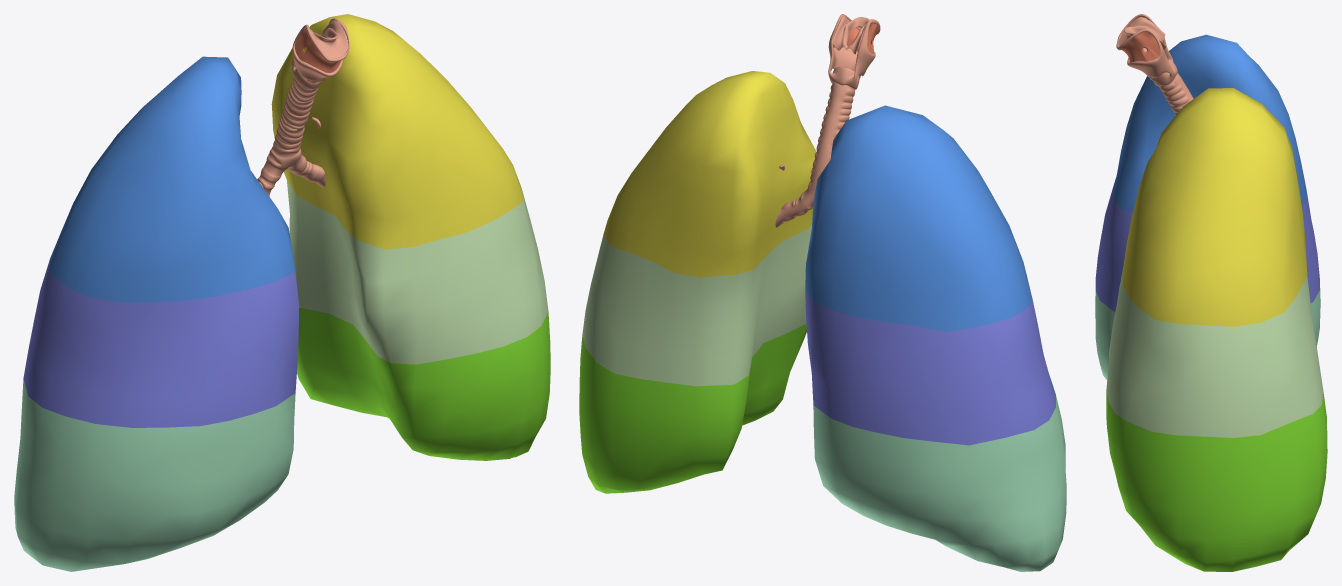
3 views of the same model, side by side, from view 1: azimuth 30°, elevation 25°; view 2: azimuth 150°, elevation 25°; view 3: azimuth 270°, elevation 25° (orthographic). The views are drawn at different scales.
Visible parts, largest first — view 1: uploads_files_2015339_Human_Lung_Low_Poly, Lungs_5; view 2: uploads_files_2015339_Human_Lung_Low_Poly, Lungs_5; view 3: uploads_files_2015339_Human_Lung_Low_Poly, Lungs_5.
Boxes of the visible parts, <box> form: uploads_files_2015339_Human_Lung_Low_Poly: <box>14,14,550,571</box>; Lungs_5: <box>257,18,349,196</box>; uploads_files_2015339_Human_Lung_Low_Poly: <box>579,71,1066,571</box>; Lungs_5: <box>775,14,880,227</box>; uploads_files_2015339_Human_Lung_Low_Poly: <box>1095,34,1327,571</box>; Lungs_5: <box>1116,14,1193,115</box>.
Size of the model in its own units: 0.5476 by 0.5361 by 0.2466.
